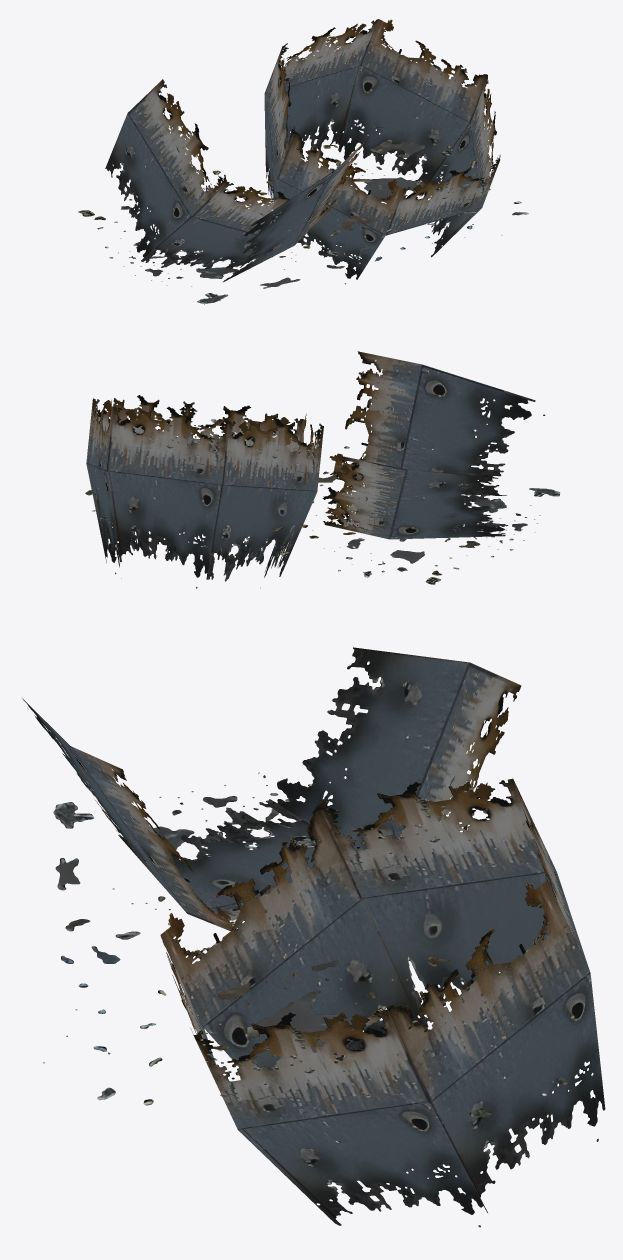
The model's file is crashengine_dam_hdtex.glb.
3 views of the same model, one above another, from view 1: azimuth 30°, elevation 25°; view 2: azimuth 150°, elevation 25°; view 3: azimuth 270°, elevation 25° (orthographic). The views are drawn at different scales.
Visible parts, largest first — view 1: Crash Engine; view 2: Crash Engine; view 3: Crash Engine.
Part boxes in pixels (x1,y1,x2,y2): Crash Engine: (78, 19, 528, 304); Crash Engine: (85, 351, 560, 588); Crash Engine: (22, 647, 605, 1227).
Size of the model in its own units: 24.89 by 12.11 by 16.6.
2 materials, 2 textured.
